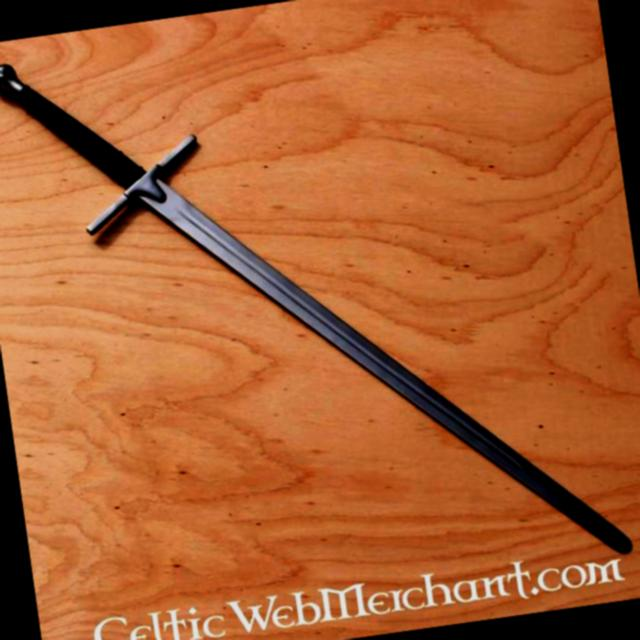long sword: (0, 0, 638, 629)
